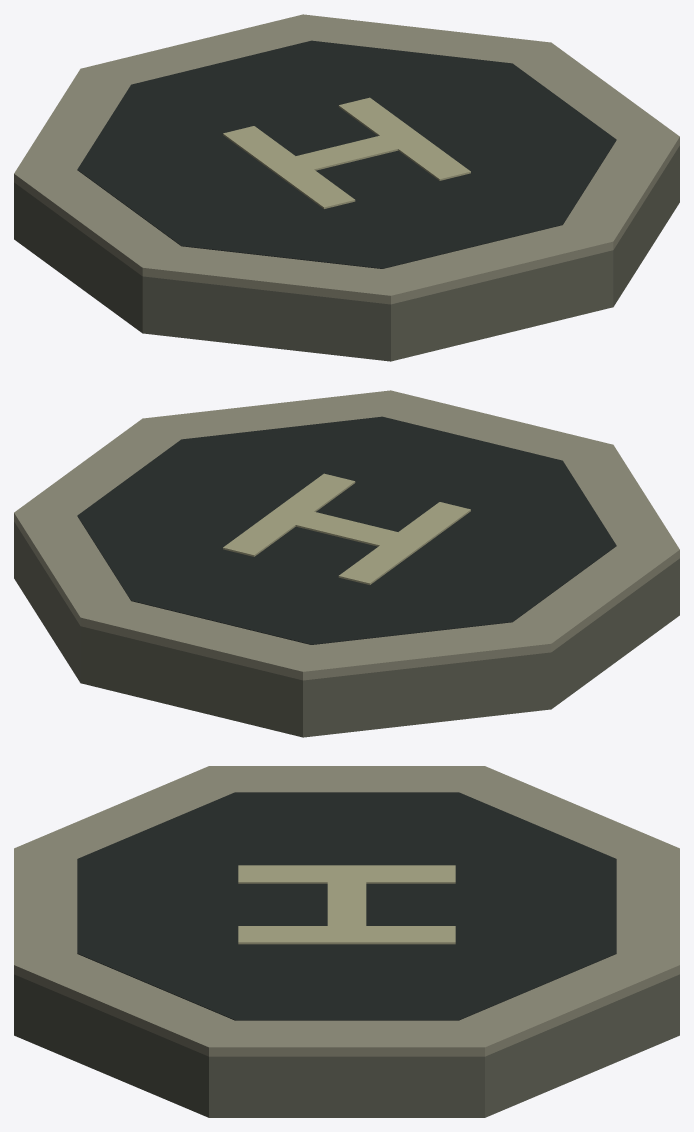
File: SM_Helipad.fbx
The picture shows the model from 3 angles, top to bottom: view 1: azimuth 30°, elevation 25°; view 2: azimuth 150°, elevation 25°; view 3: azimuth 270°, elevation 25°; orthographic projection. The views are drawn at different scales.
Visible parts, largest first — view 1: SM_Helipad • FBX; view 2: SM_Helipad • FBX; view 3: SM_Helipad • FBX.
Boxes of the visible parts, x1=… form: SM_Helipad • FBX: x1=14, y1=14, x2=679, y2=361; SM_Helipad • FBX: x1=14, y1=390, x2=679, y2=737; SM_Helipad • FBX: x1=14, y1=766, x2=679, y2=1117.
Size of the model in its own units: 1626 by 1626 by 197.
